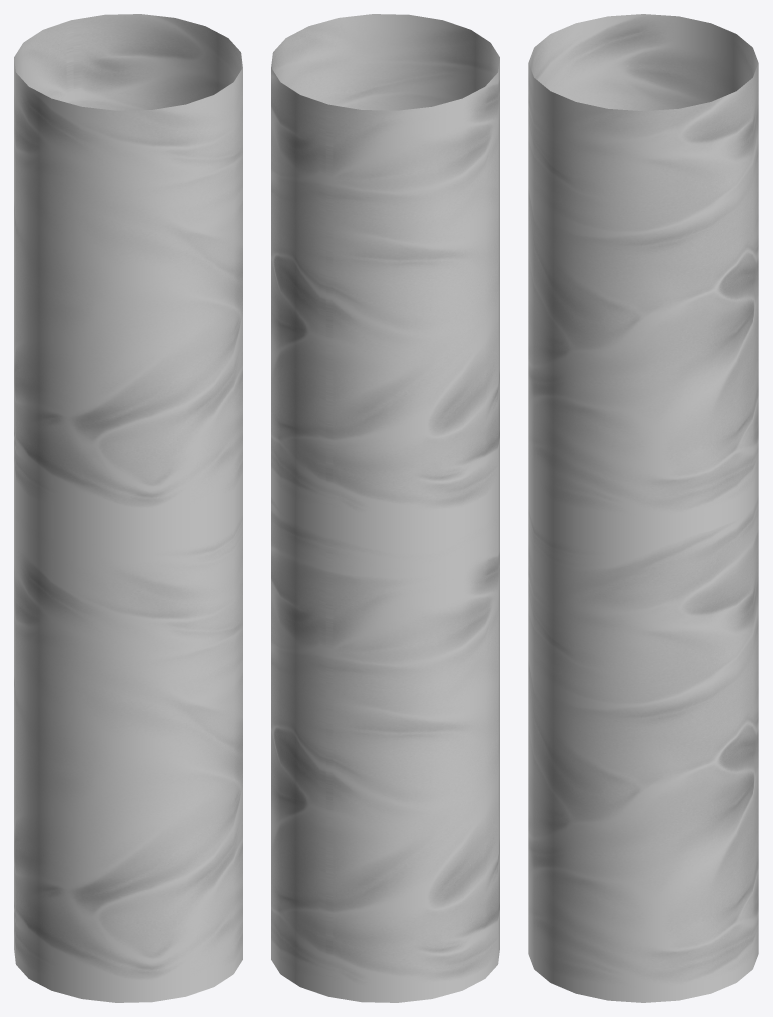
The model's file is Pipe__28.fbx.
3 renders of one model, left to right at view 1: azimuth 30°, elevation 25°; view 2: azimuth 150°, elevation 25°; view 3: azimuth 270°, elevation 25°, orthographic.
Visible parts, largest first — view 1: Pipe_Metal; view 2: Pipe_Metal; view 3: Pipe_Metal.
Part boxes in pixels (<box>): Pipe_Metal: <box>14,14,242,1002</box>; Pipe_Metal: <box>271,14,499,1002</box>; Pipe_Metal: <box>528,14,758,1002</box>.
Bounding box in the file's own units: 0.96 × 4.11 × 0.96.
1 material, 1 textured.
